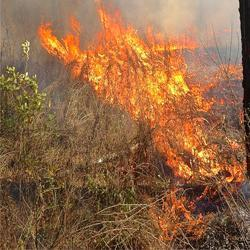fire: (103, 44, 208, 111)
